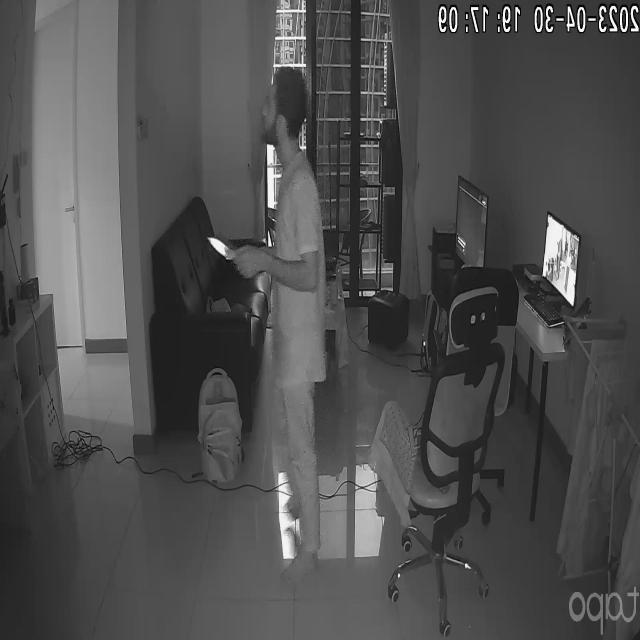Knife: (205, 226, 241, 268)
